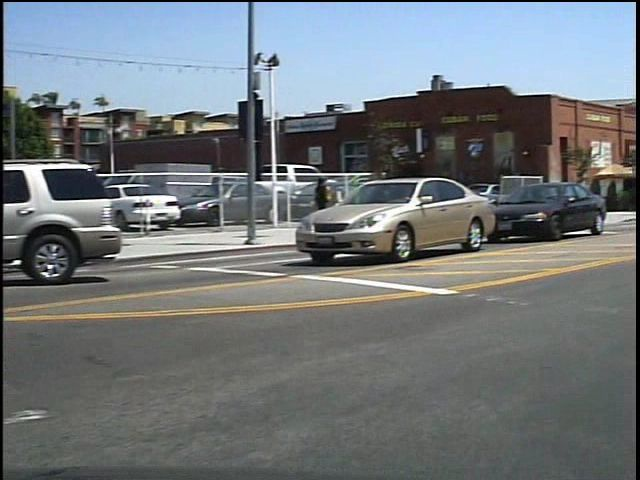person: (320, 171, 345, 231)
